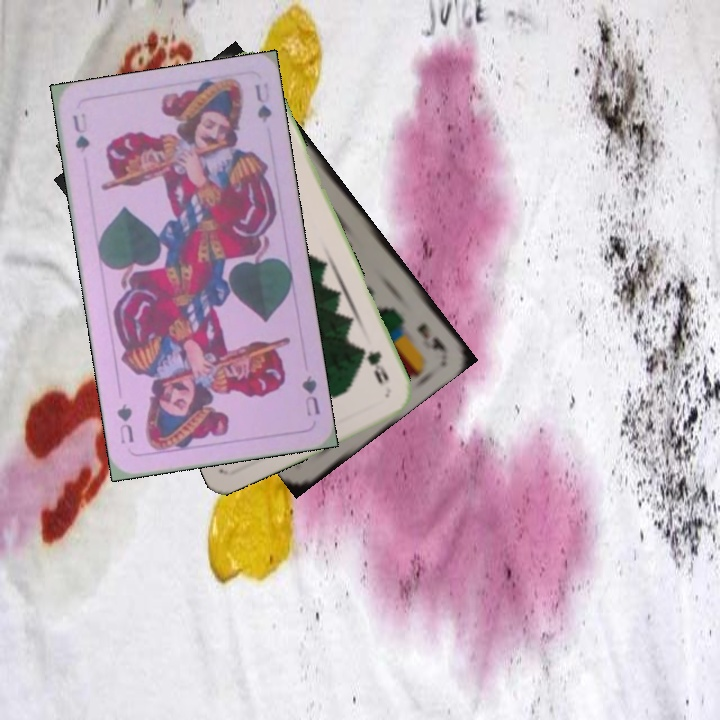EK: (413, 319, 448, 353)
G9: (358, 343, 392, 388)
GU: (297, 371, 323, 419), (68, 108, 92, 156)
